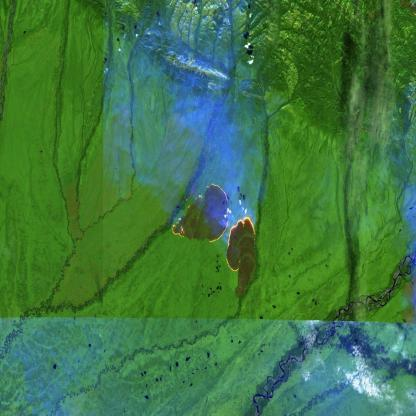fire: (169, 178, 258, 275)
